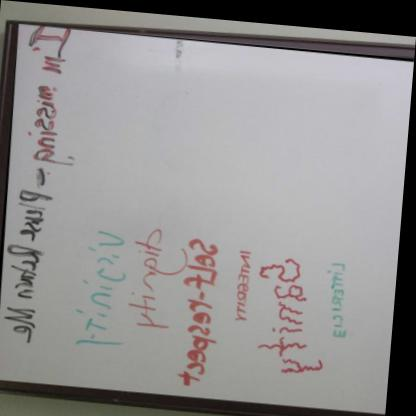Handwritten text: (251, 234, 336, 386), (1, 180, 64, 344), (17, 20, 86, 167), (66, 220, 130, 366), (174, 225, 224, 384), (124, 213, 186, 337), (233, 236, 257, 327)
Whiteboard: (0, 18, 415, 416)
